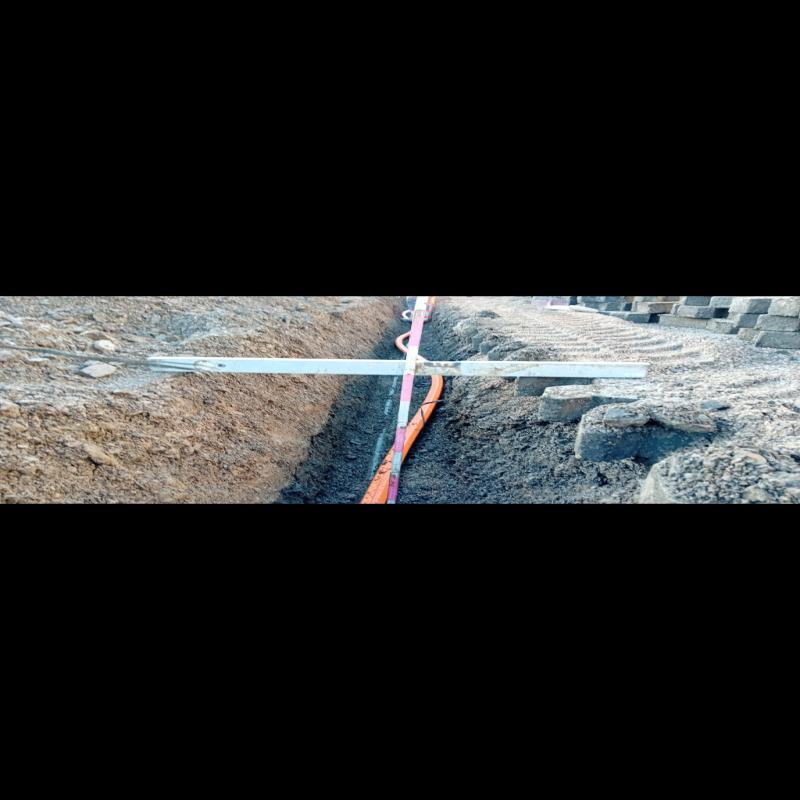Orang-Speednetrohrchen: (361, 375, 442, 504)
